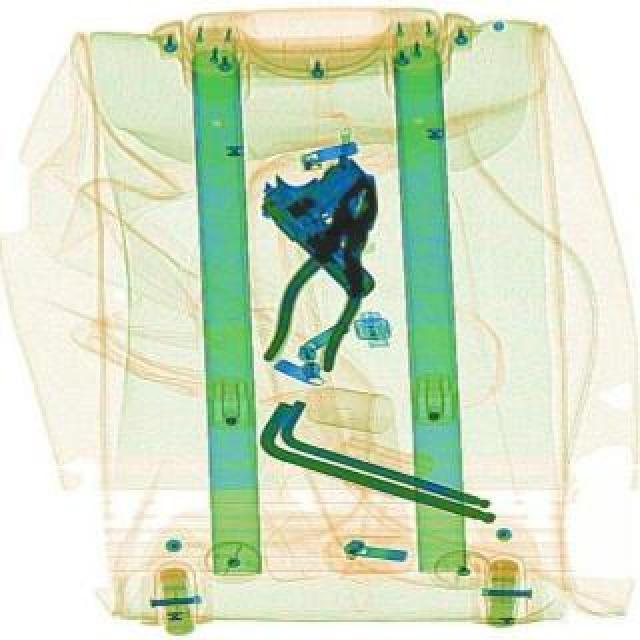gun: (242, 128, 434, 306)
wrench: (258, 158, 406, 382)
